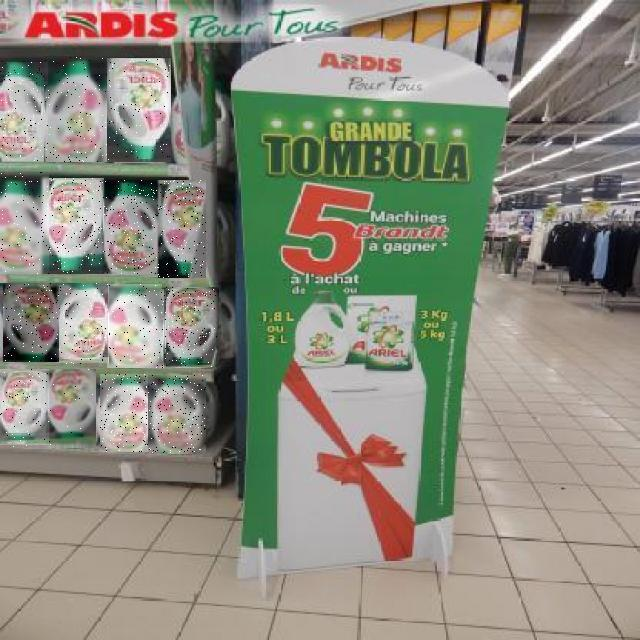Detergent: (106, 58, 171, 162), (44, 56, 107, 162), (42, 178, 104, 274), (103, 180, 161, 274), (0, 172, 49, 274), (0, 63, 48, 163), (159, 180, 207, 278), (108, 284, 164, 368), (148, 376, 206, 454), (3, 283, 59, 362), (162, 289, 216, 368), (57, 284, 109, 366), (166, 287, 219, 367), (46, 370, 96, 448), (0, 370, 49, 448), (100, 374, 148, 452)
